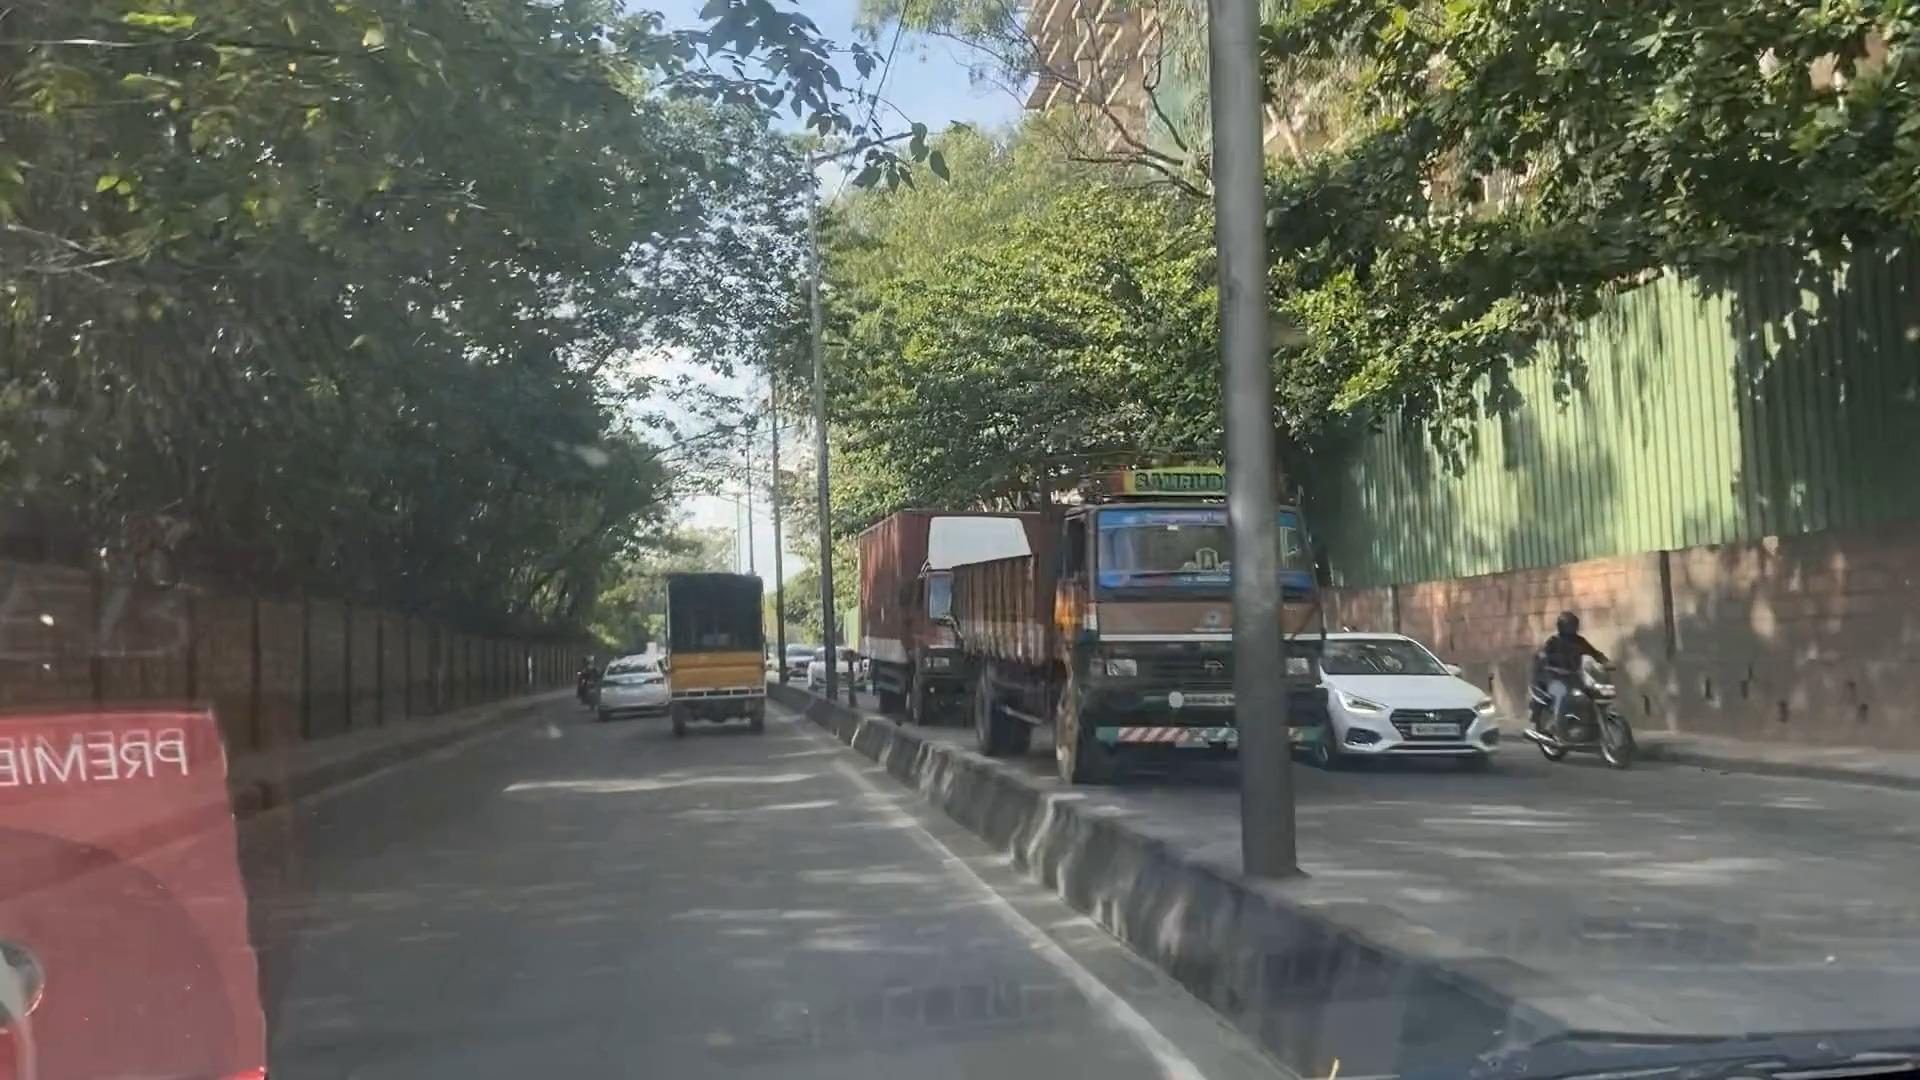HMV: (928, 450, 1324, 775), (656, 550, 780, 748)
